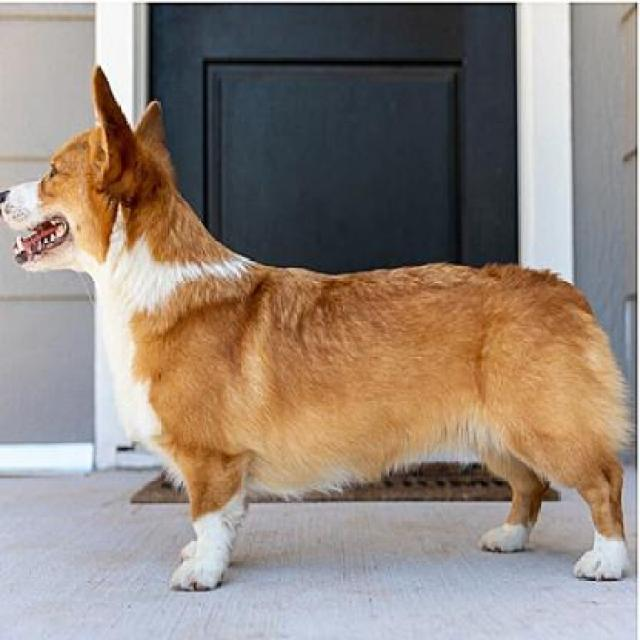Dog: (1, 60, 634, 606)
